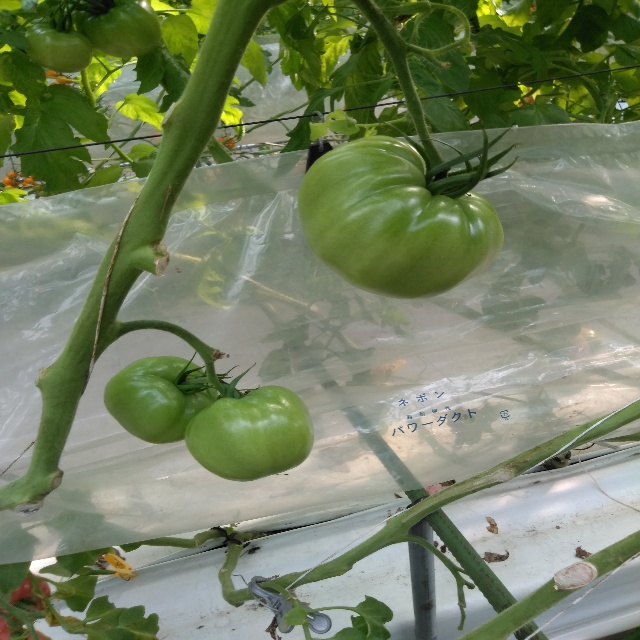b_green: (298, 135, 503, 299), (185, 385, 315, 482), (103, 356, 220, 445), (75, 0, 162, 59), (24, 21, 94, 73)
